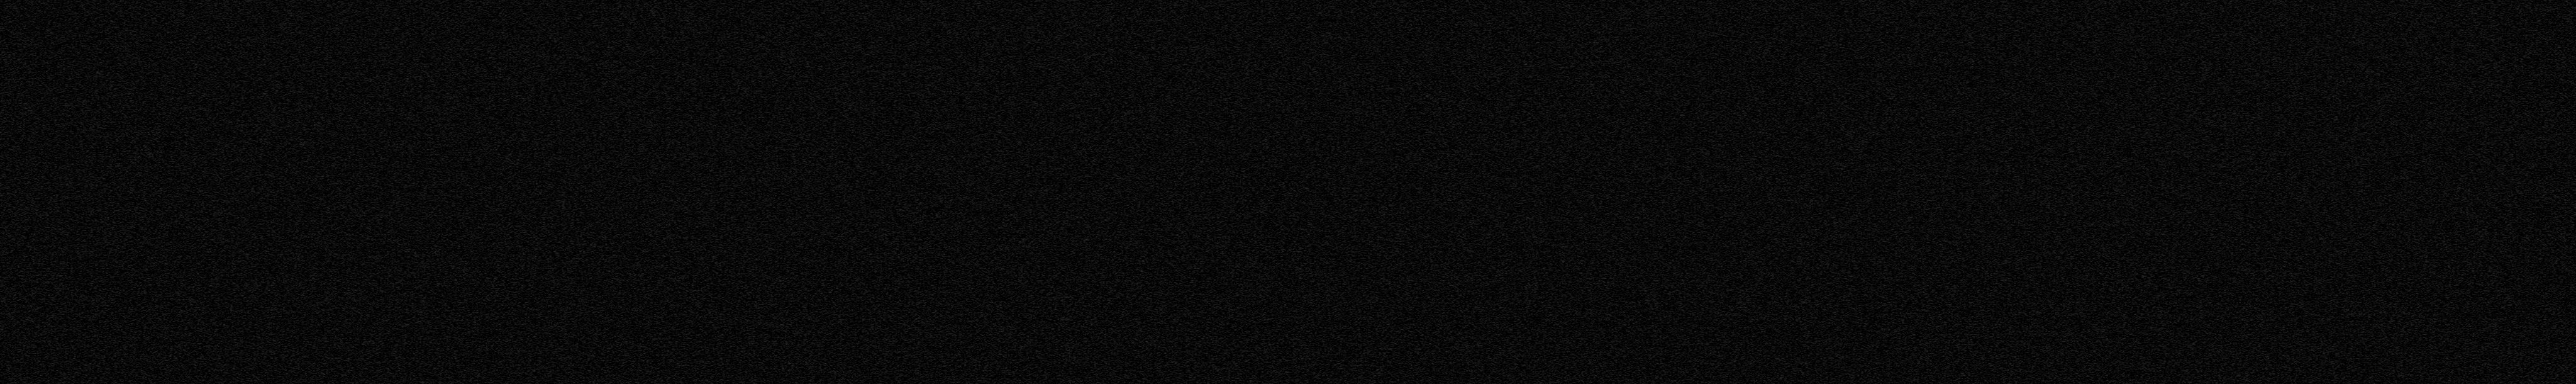wv_cw: (310, 0, 322, 384), (651, 0, 660, 384)
wv_lsb: (1127, 3, 1132, 384)
